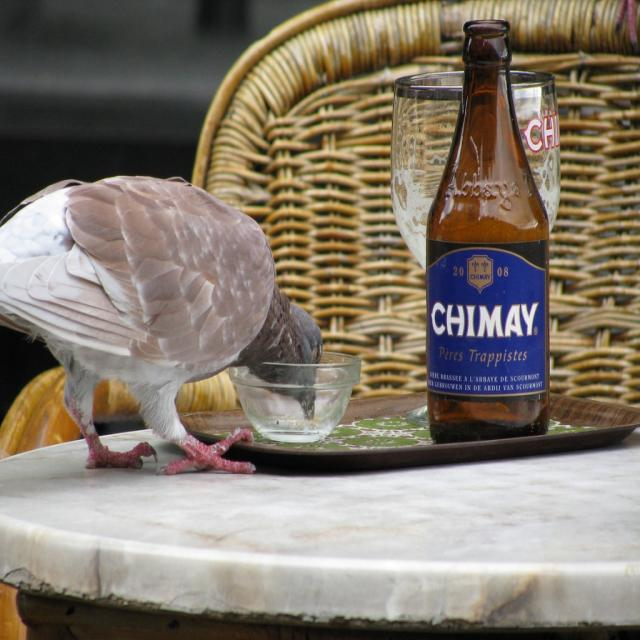chimay: (426, 247, 547, 398)
